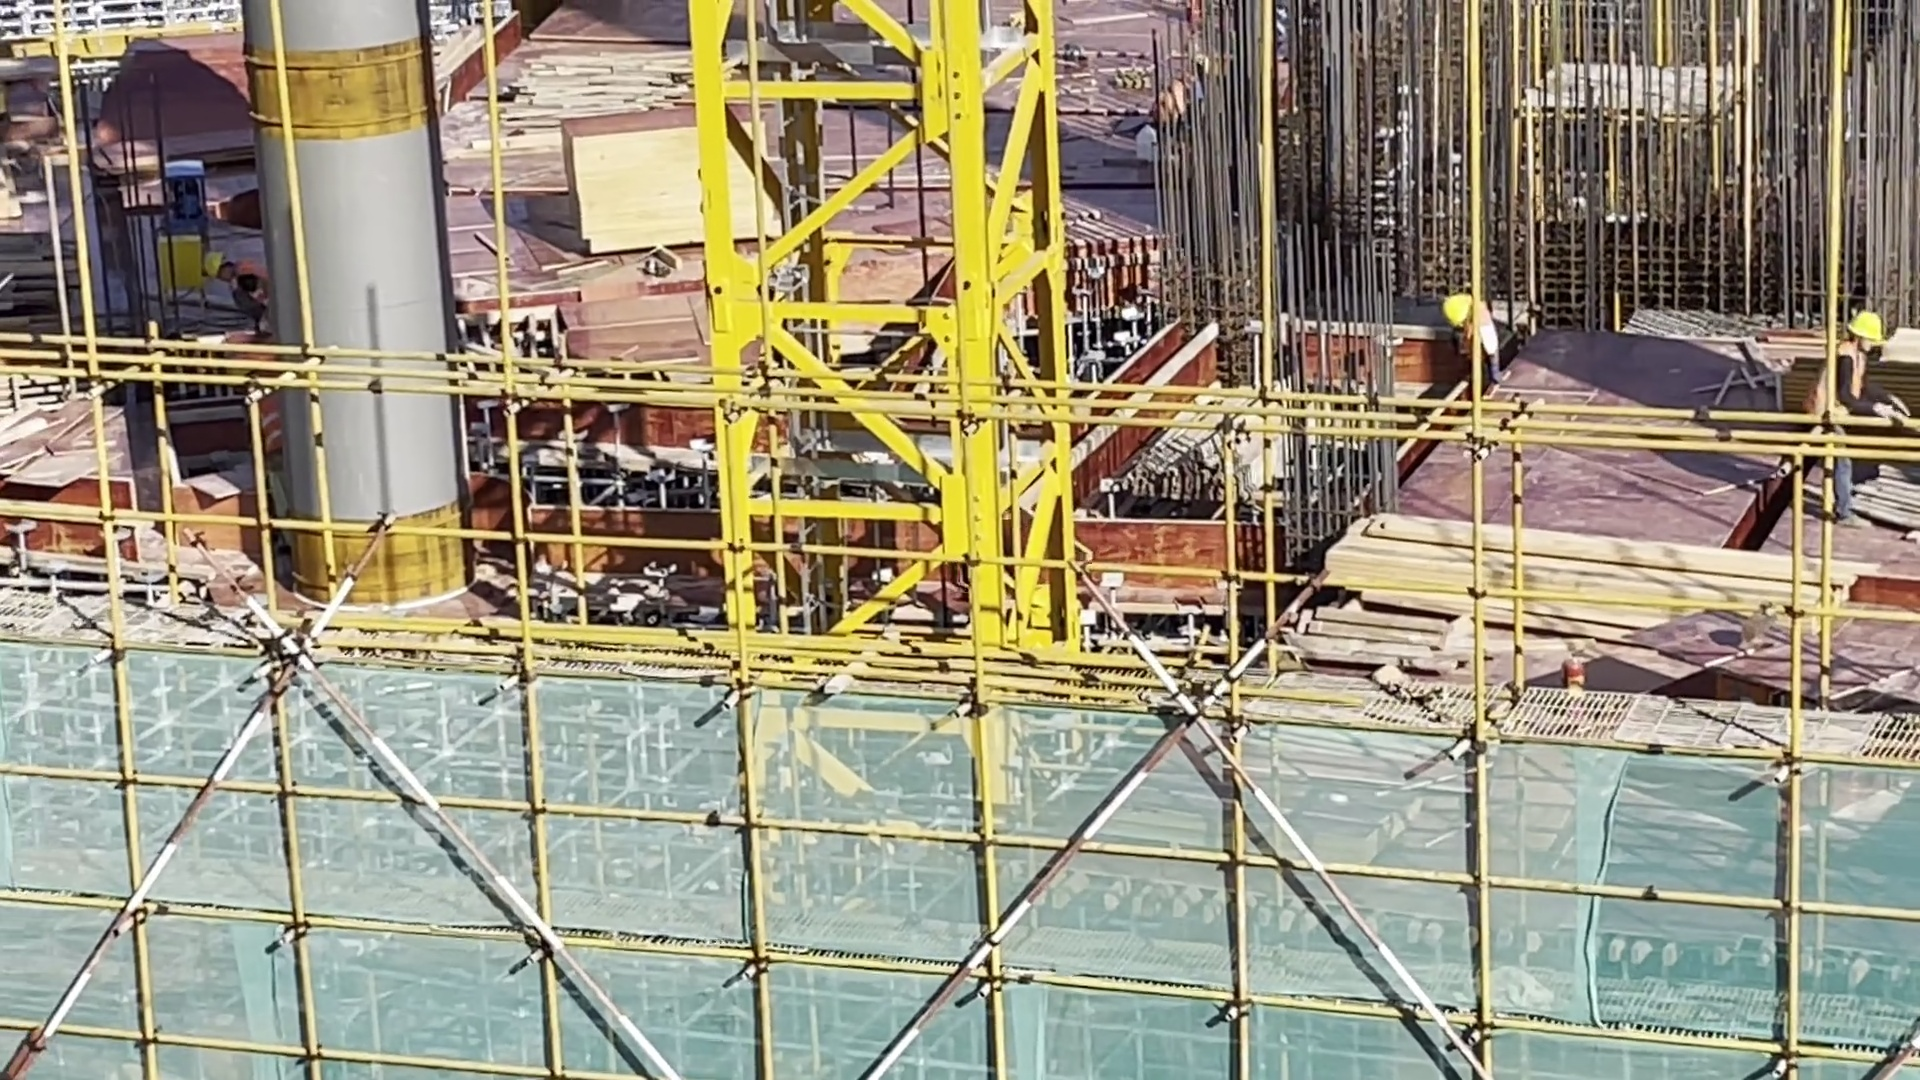helmet: (1845, 299, 1883, 347), (1439, 290, 1471, 321)
person: (1811, 302, 1907, 532), (195, 252, 280, 332), (1446, 295, 1509, 386)
